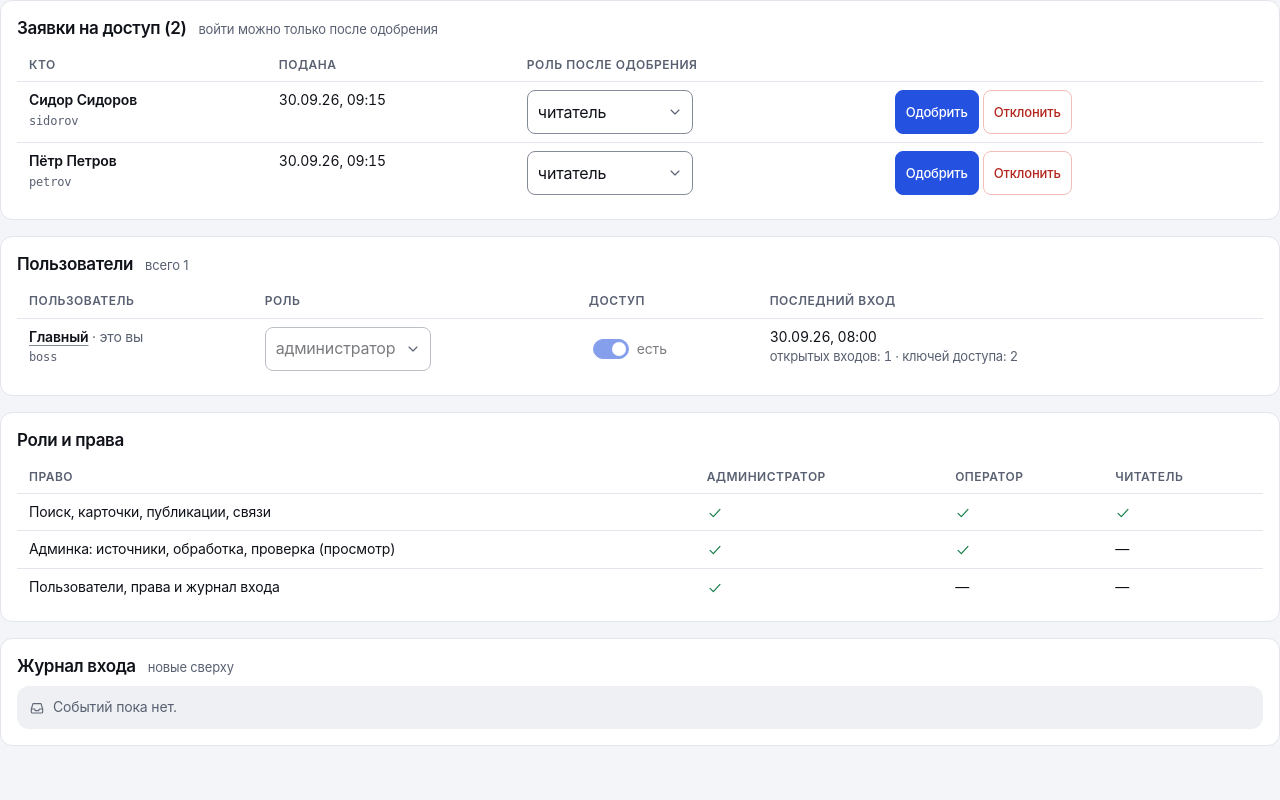
Scenario: экран «Пользователи» › заявки — наверху и не в списке пользователей; одобрение уходит с выбранной ролью и версией
This screenshot has width=1280, height=800.
Expected: the text "Пётр Петров" is shown, x1=29 y1=152 x2=116 y2=169
Expected: the text "всего 1" is shown, x1=145 y1=256 x2=188 y2=275
Step 1. Select "оператор" in the dropdown named "Роль после одобрения: Пётр Петров" in the row of "Пётр Петров" → [610, 173], box x1=527 y1=151 x2=693 y2=195
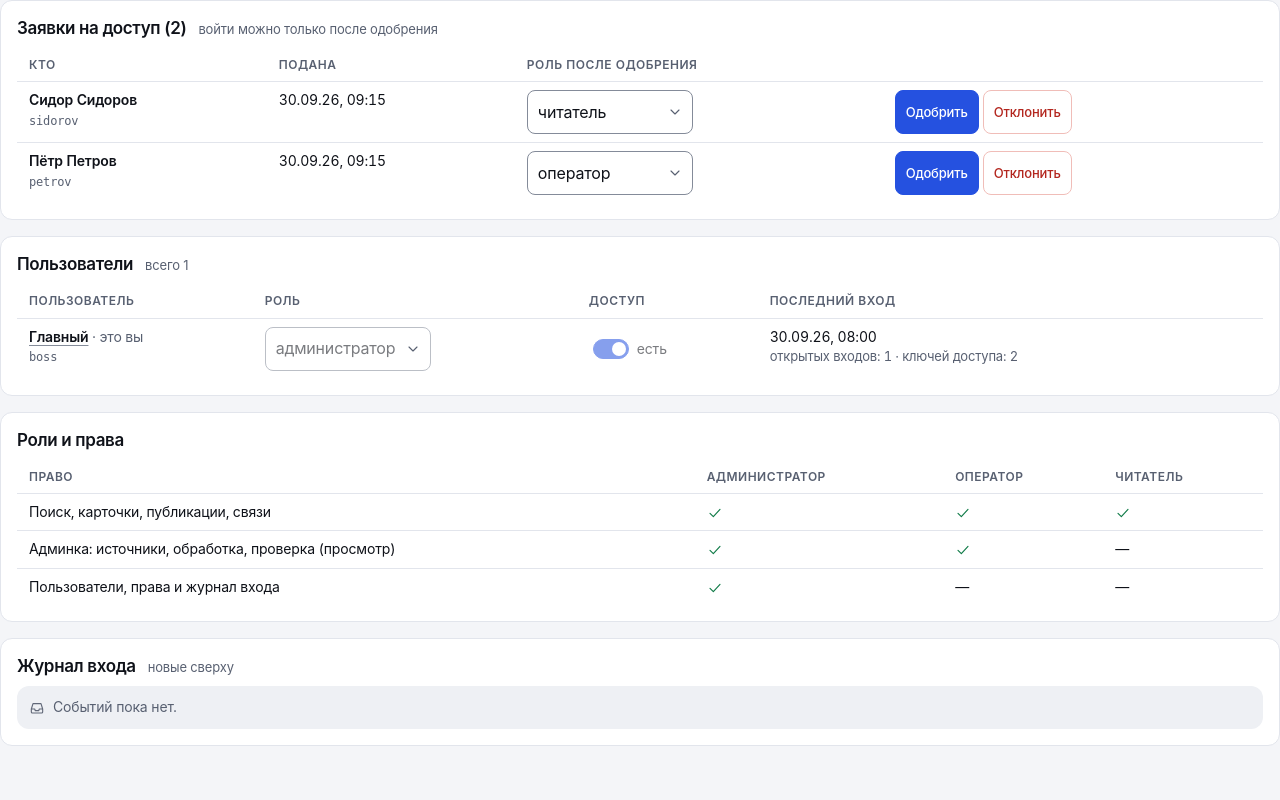
Step 2. Click the button named "Одобрить «Пётр Петров»" → [937, 173], box x1=895 y1=151 x2=979 y2=195
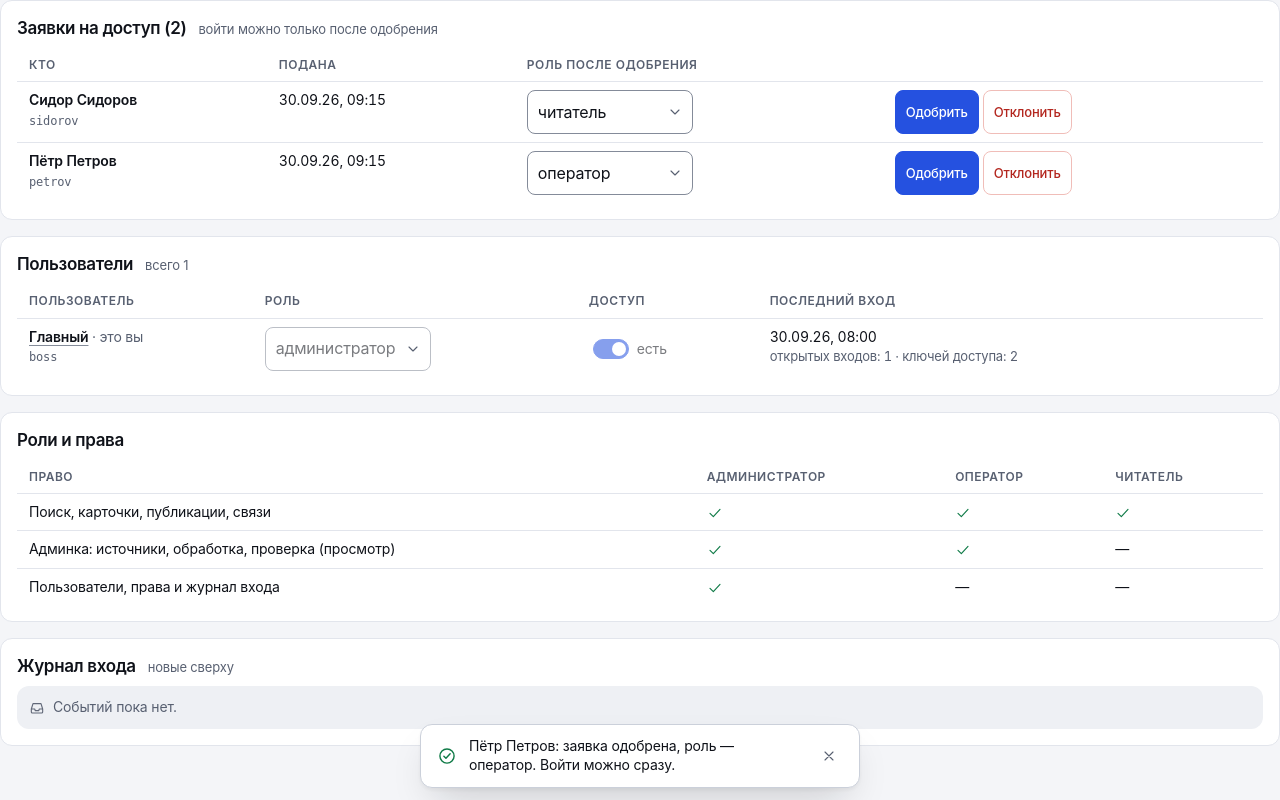
Expected: the text "Пётр Петров: заявка одобрена, роль — оператор" is shown, x1=469 y1=737 x2=734 y2=773
